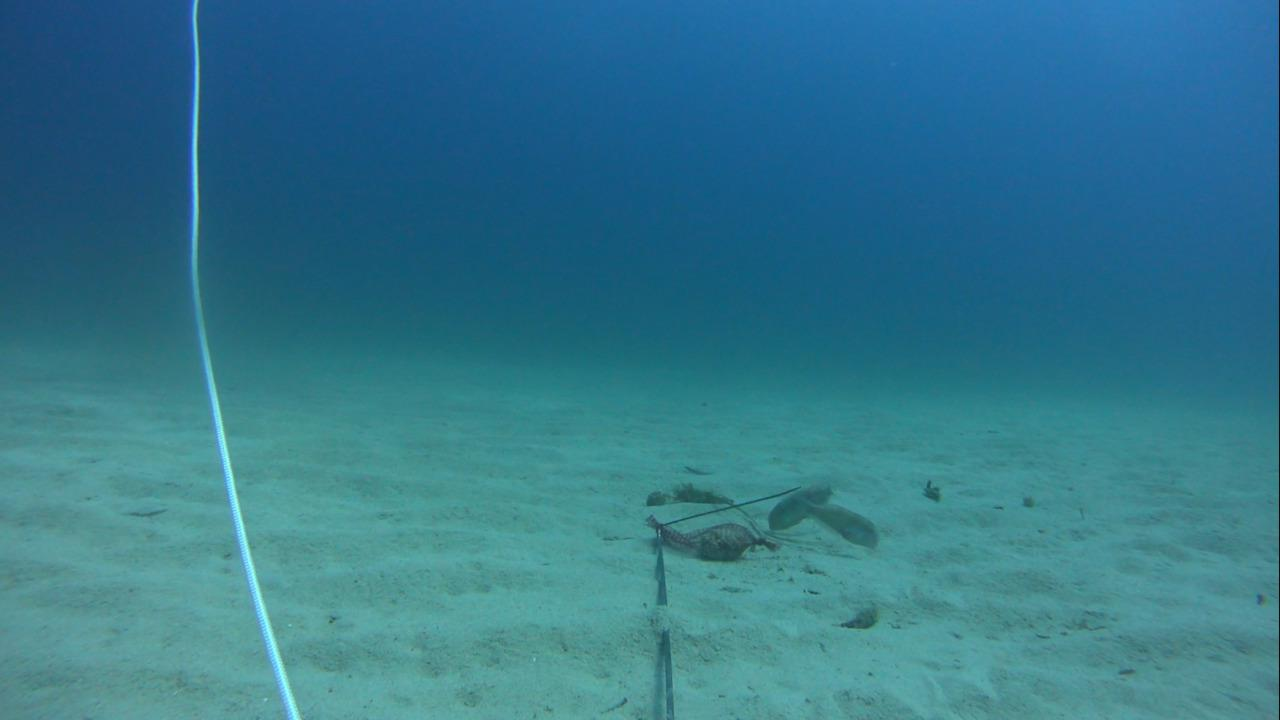raor: (793, 494, 881, 550), (763, 479, 834, 530)
